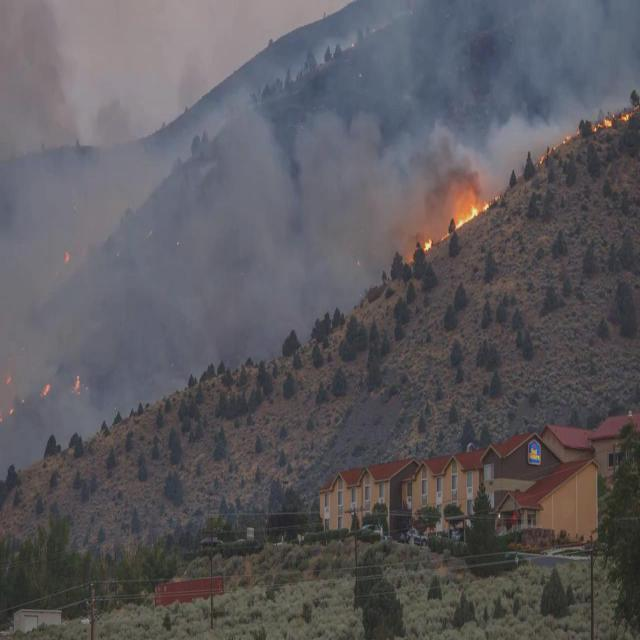Fire: (454, 204, 492, 226), (424, 236, 434, 256), (621, 104, 631, 124), (72, 378, 82, 394), (42, 382, 52, 396), (602, 116, 614, 126)
